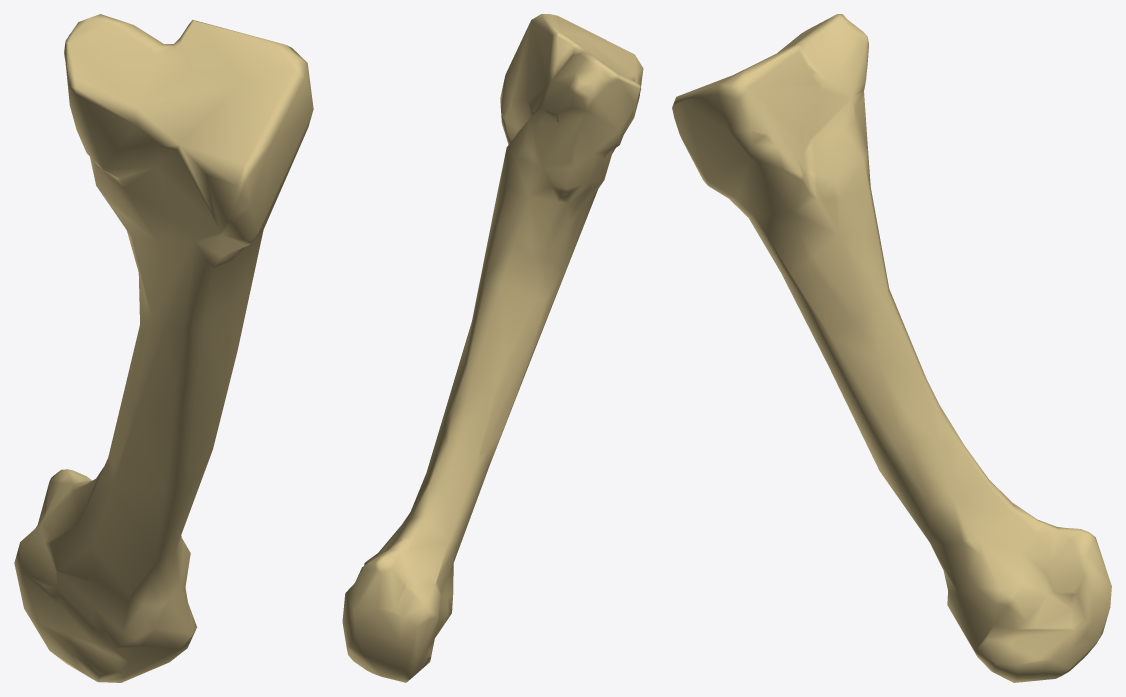
3 views of the same model, side by side, from view 1: azimuth 30°, elevation 25°; view 2: azimuth 150°, elevation 25°; view 3: azimuth 270°, elevation 25° (orthographic). The views are drawn at different scales.
Visible parts, largest first — view 1: 左侧第三跖骨; view 2: 左侧第三跖骨; view 3: 左侧第三跖骨.
Part boxes in pixels (bbox=[...]): 左侧第三跖骨: bbox=[14, 14, 313, 682]; 左侧第三跖骨: bbox=[342, 14, 643, 682]; 左侧第三跖骨: bbox=[672, 14, 1111, 682].
Size of the model in its own units: 0.034 by 0.0998 by 0.0655.
